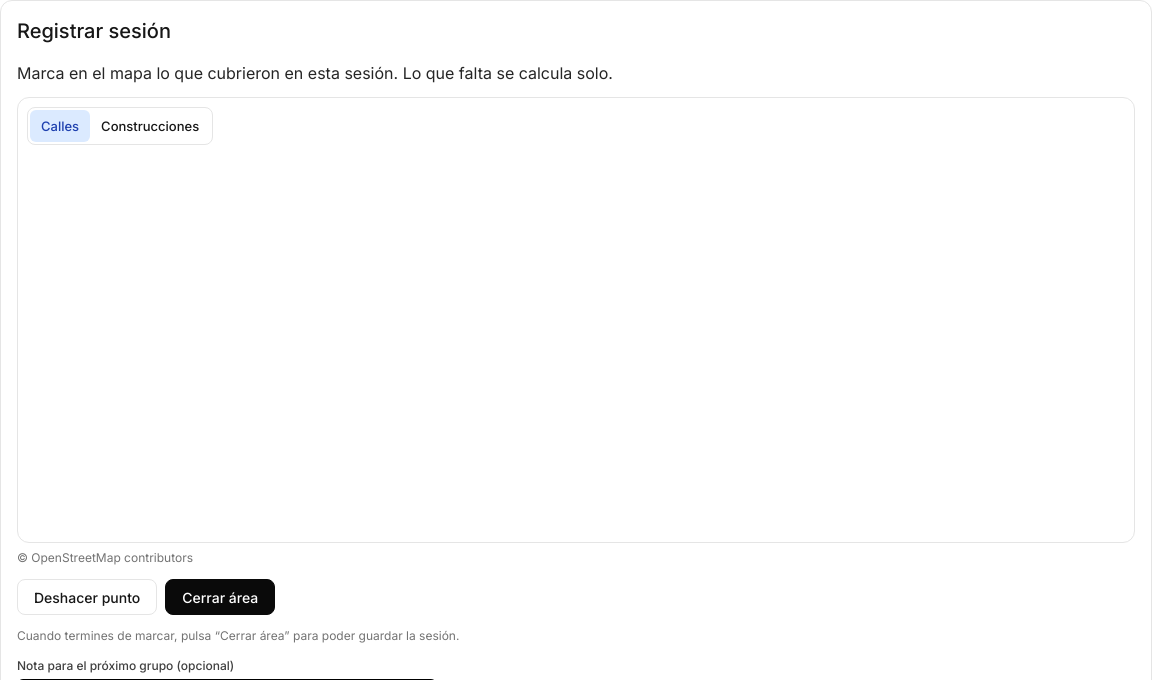
it: ProgressRecorder › cannot save a session until the covered area is closed
Click the button "Cerrar área": coordinates (220, 597) [165,579,275,615]
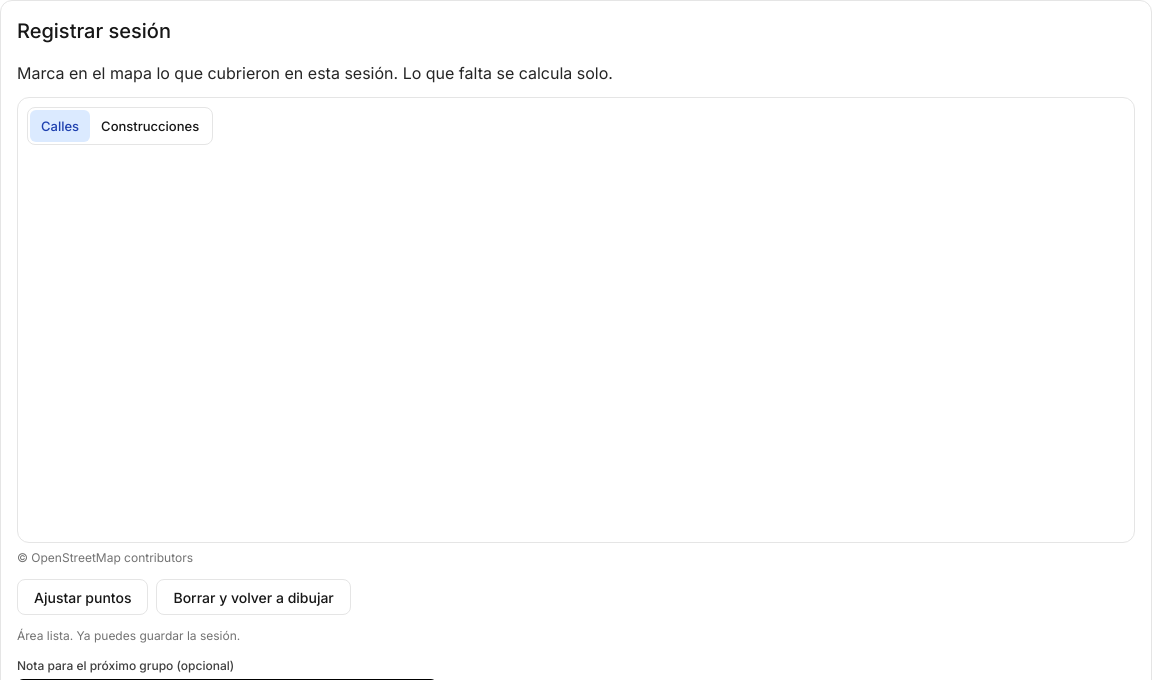
Expected: the message "Área lista. Ya puedes guardar la sesión." is shown, [17,628,240,643]
